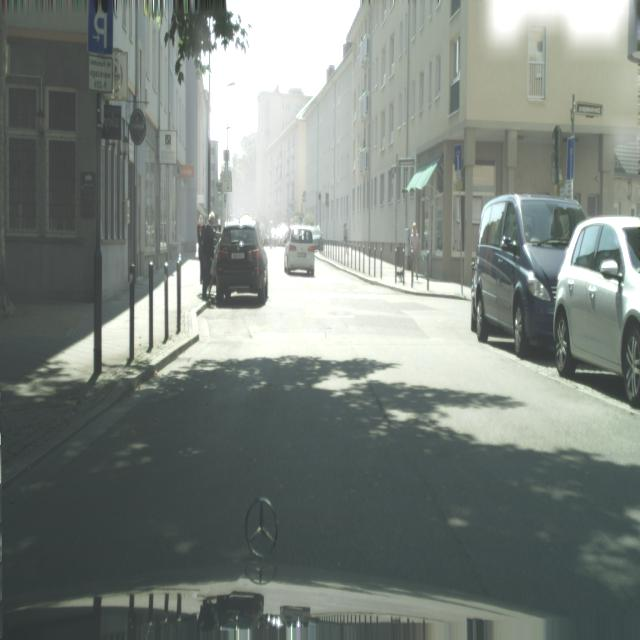person: (202, 212, 216, 300), (198, 213, 209, 299), (410, 222, 420, 286)
truck: (470, 192, 588, 357), (552, 214, 640, 406), (215, 220, 269, 307), (284, 226, 315, 276), (306, 225, 323, 252)
